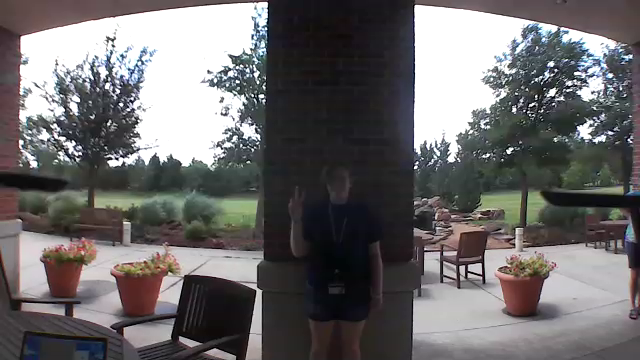peace: (281, 182, 317, 225)
